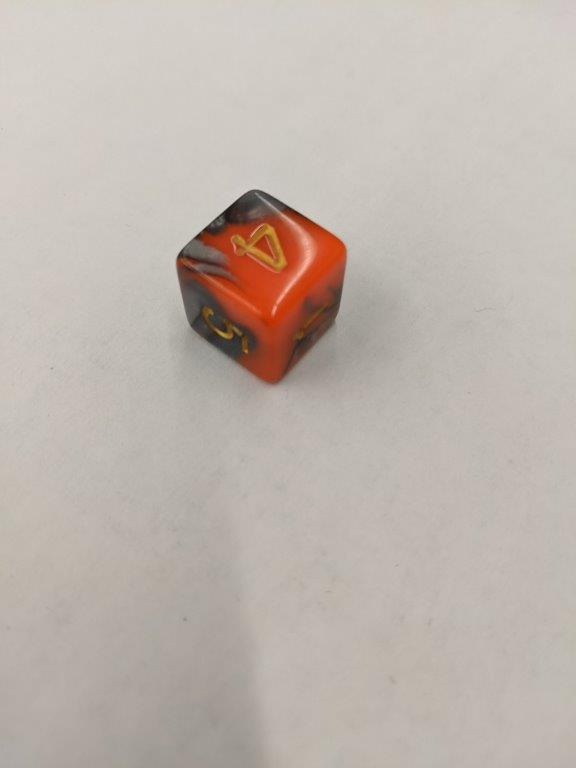d6-4: (173, 190, 347, 381)
